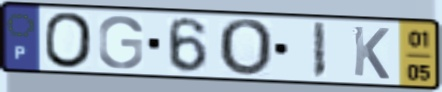6: (165, 15, 211, 76)
G: (96, 14, 145, 71)
I: (310, 20, 328, 81)
K: (351, 24, 392, 82)
O: (216, 17, 276, 79), (42, 10, 95, 71)
